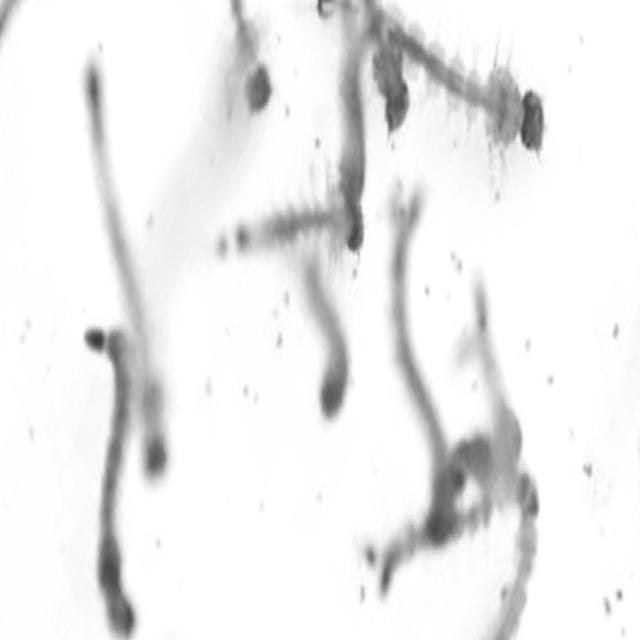larvas: (73, 42, 195, 506), (360, 3, 549, 202), (379, 181, 465, 548), (66, 304, 154, 640), (366, 449, 554, 601), (278, 257, 371, 432), (470, 284, 535, 470), (208, 196, 365, 273), (350, 0, 432, 139), (209, 0, 302, 116), (336, 0, 376, 265), (486, 477, 549, 640)
